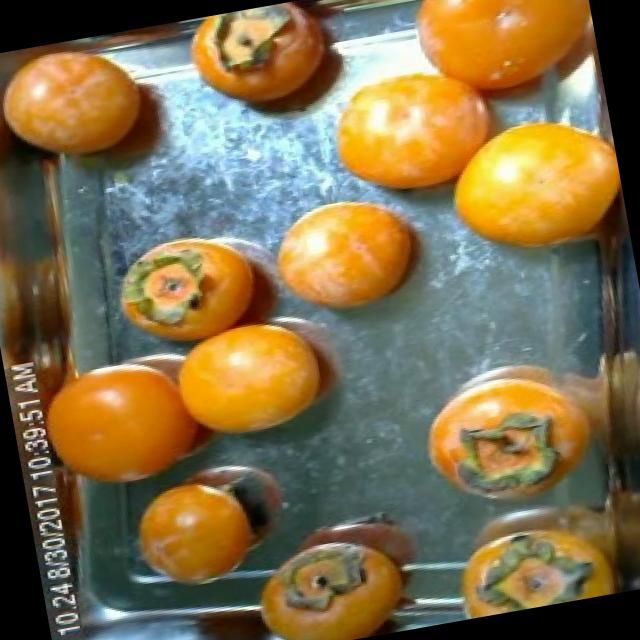Fruit: (422, 93, 633, 285), (13, 342, 245, 514), (244, 170, 456, 342), (0, 25, 196, 198), (308, 50, 496, 216), (174, 0, 374, 145), (112, 463, 278, 599)
